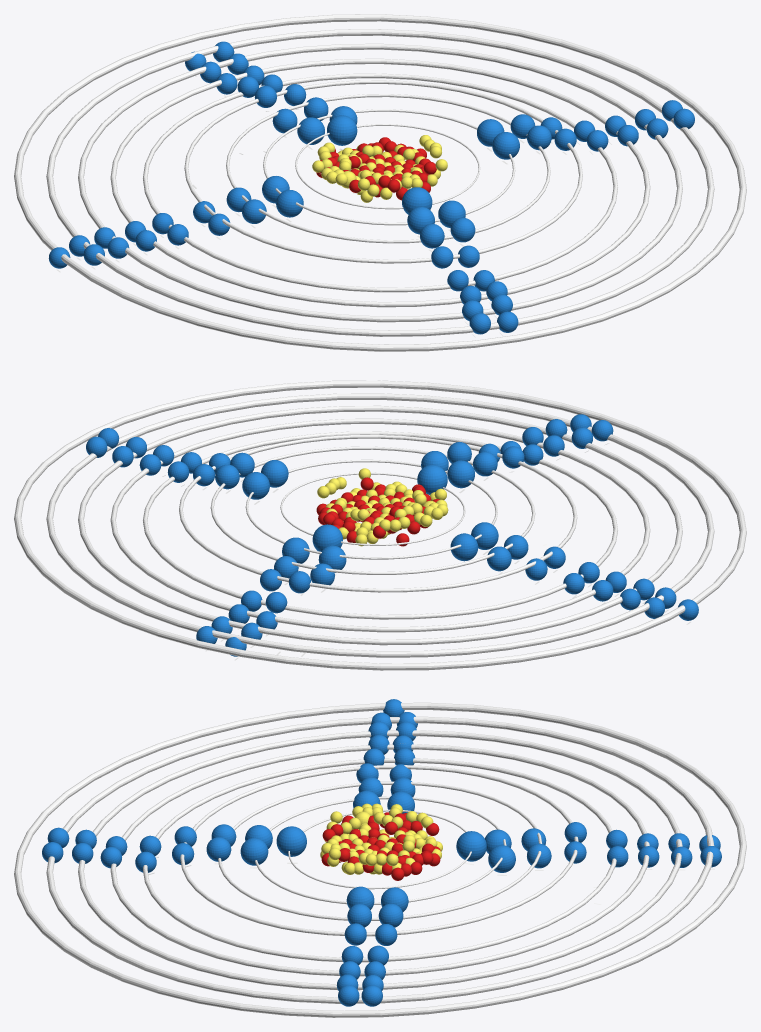
The picture shows the model from 3 angles, top to bottom: view 1: azimuth 30°, elevation 25°; view 2: azimuth 150°, elevation 25°; view 3: azimuth 270°, elevation 25°; orthographic projection.
Parts seen in each view (by area): view 1: Torus.009, Torus.008, Torus.007, Torus.006, Torus.005, Torus.004, Torus.003, Torus.002, Torus.001, g, g.005, g.003 (+2 smaller); view 2: Torus.009, Torus.008, Torus.007, Torus.006, Torus.005, Torus.004, Torus.003, Torus.002, Torus.001, g.001, g, g.006 (+8 smaller); view 3: Torus.009, Torus.008, Torus.007, Torus.006, Torus.005, Torus.004, Torus.003, Torus.002, Torus.001, g.001, g, g.007 (+1 smaller).
Boxes of the visible parts, left/top/right/bottom form: Torus.009: left=14, top=14, right=746, bottom=351; Torus.008: left=46, top=29, right=714, bottom=336; Torus.007: left=78, top=43, right=682, bottom=322; Torus.006: left=110, top=58, right=650, bottom=307; Torus.005: left=143, top=73, right=617, bottom=292; Torus.004: left=184, top=80, right=582, bottom=263; Torus.003: left=226, top=94, right=550, bottom=243; Torus.002: left=263, top=109, right=515, bottom=225; Torus.001: left=295, top=124, right=480, bottom=209; g: left=327, top=115, right=357, bottom=145; g.005: left=492, top=132, right=519, bottom=159; g.003: left=276, top=190, right=303, bottom=217; Torus.009: left=14, top=380, right=746, bottom=670; Torus.008: left=46, top=393, right=714, bottom=657; Torus.007: left=78, top=405, right=682, bottom=645; Torus.006: left=110, top=418, right=650, bottom=632; Torus.005: left=143, top=431, right=617, bottom=619; Torus.004: left=179, top=434, right=577, bottom=592; Torus.003: left=210, top=446, right=535, bottom=574; Torus.002: left=245, top=459, right=497, bottom=559; Torus.001: left=280, top=472, right=465, bottom=545; g.001: left=417, top=464, right=447, bottom=494; g: left=312, top=524, right=342, bottom=551; g.006: left=447, top=460, right=474, bottom=488; Torus.009: left=14, top=702, right=746, bottom=1017; Torus.008: left=46, top=716, right=714, bottom=1003; Torus.007: left=78, top=730, right=682, bottom=990; Torus.006: left=110, top=744, right=649, bottom=976; Torus.005: left=143, top=758, right=616, bottom=962; Torus.004: left=180, top=765, right=578, bottom=936; Torus.003: left=218, top=781, right=542, bottom=920; Torus.002: left=255, top=796, right=506, bottom=904; Torus.001: left=288, top=809, right=471, bottom=889; g.001: left=276, top=826, right=306, bottom=856; g: left=456, top=831, right=486, bottom=861; g.007: left=240, top=838, right=268, bottom=865.
Bounding box in the file's own units: 24.02 × 2.85 × 23.77.
